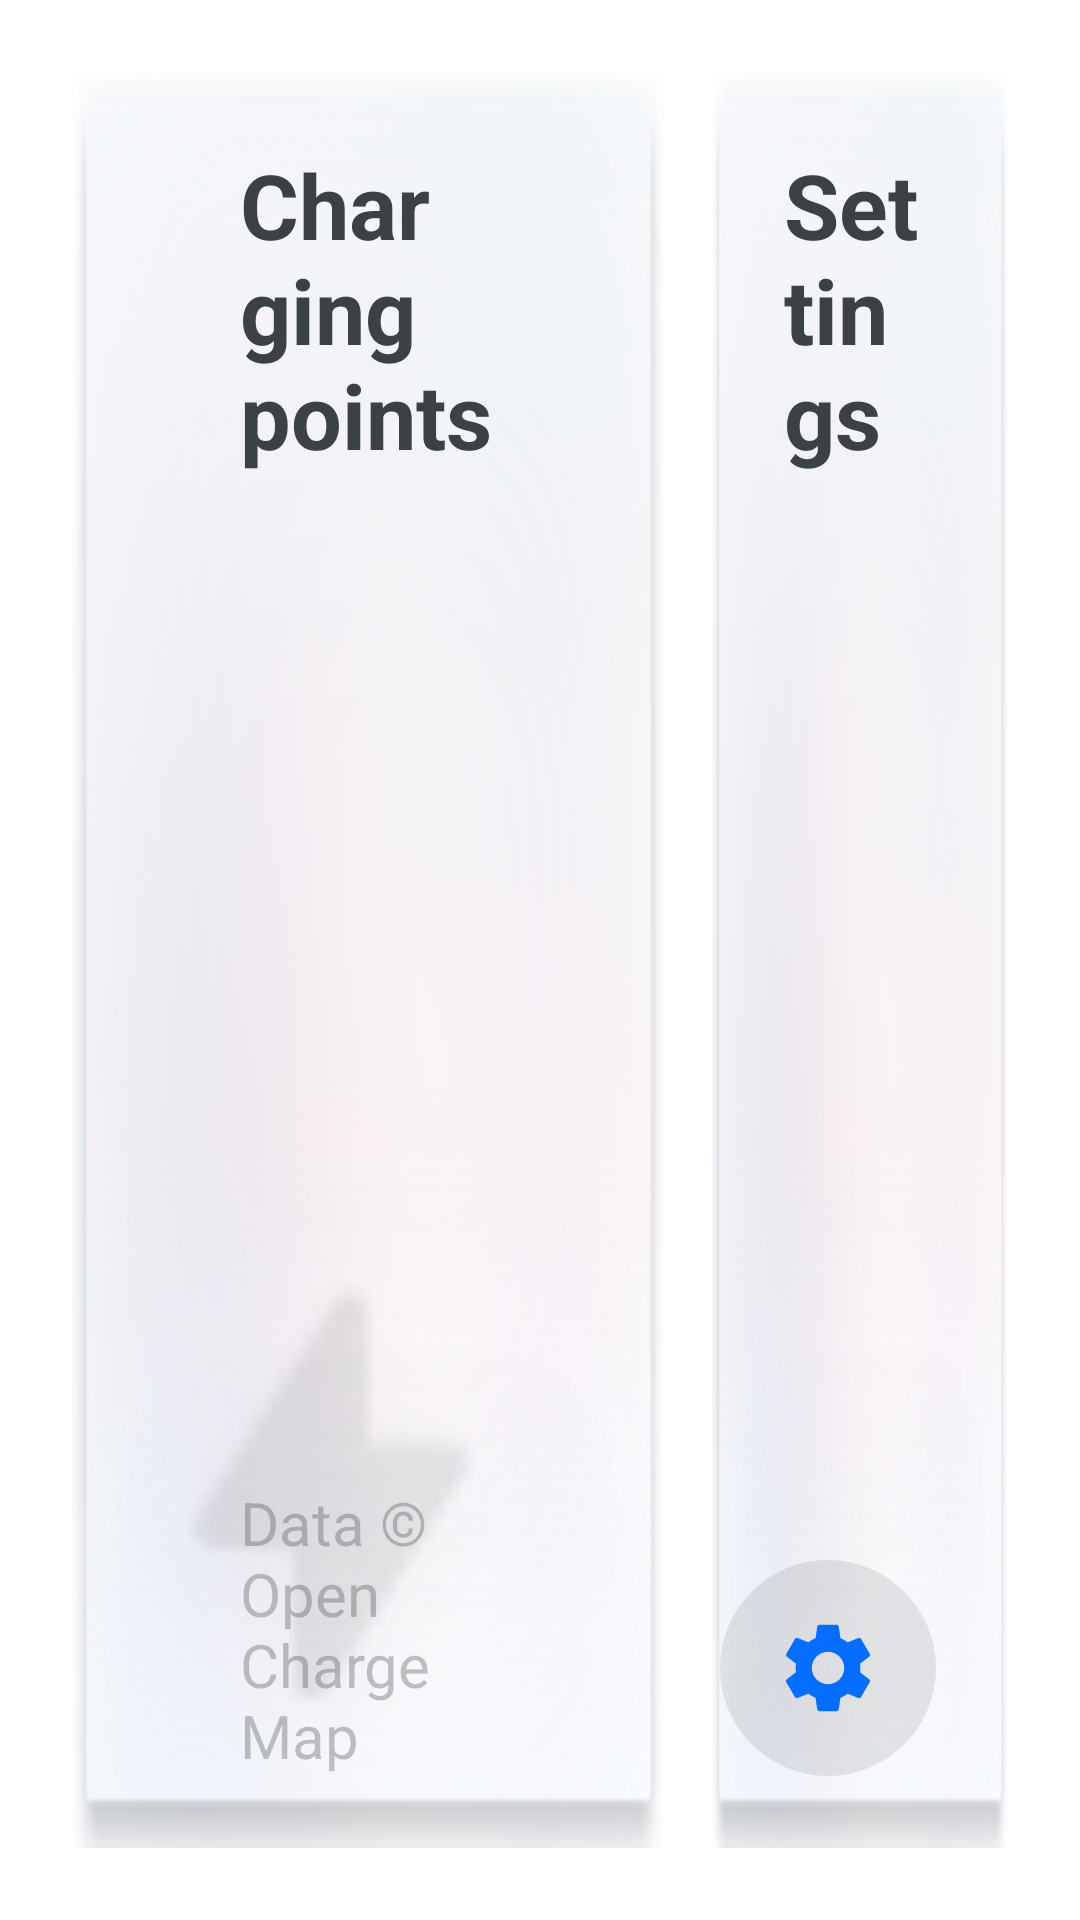

Where icons sit on this 1080px x 1920px app screen, as BBox(x1, y1, x2, y2):
Settings: BBox(720, 1560, 875, 1774)
